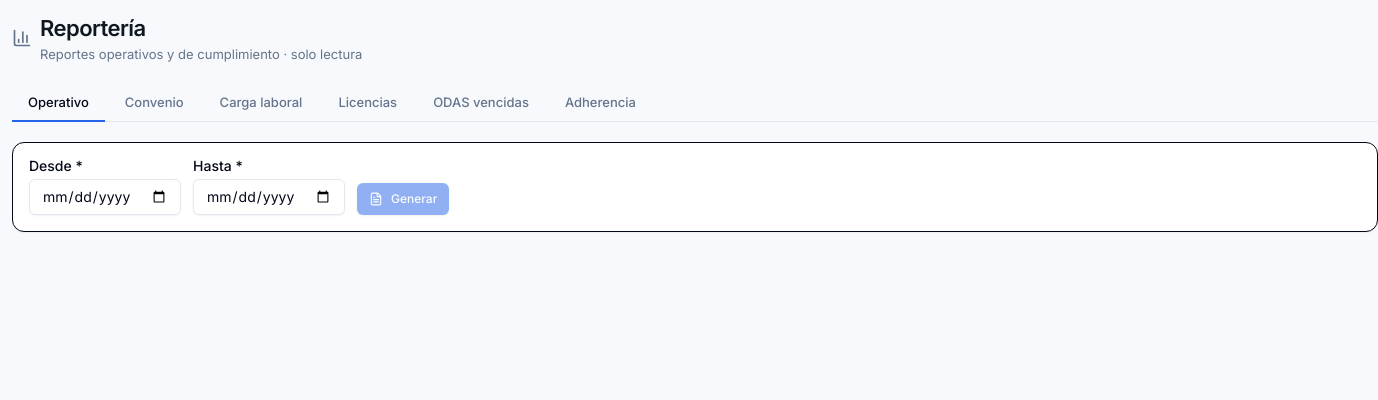
Test: ReportesPage — pestaña Adherencia › explica el criterio del denominador bajo el KPI
This screenshot has width=1378, height=400.
Click the button "Adherencia". click: click(600, 103)
box: [549, 84, 652, 122]
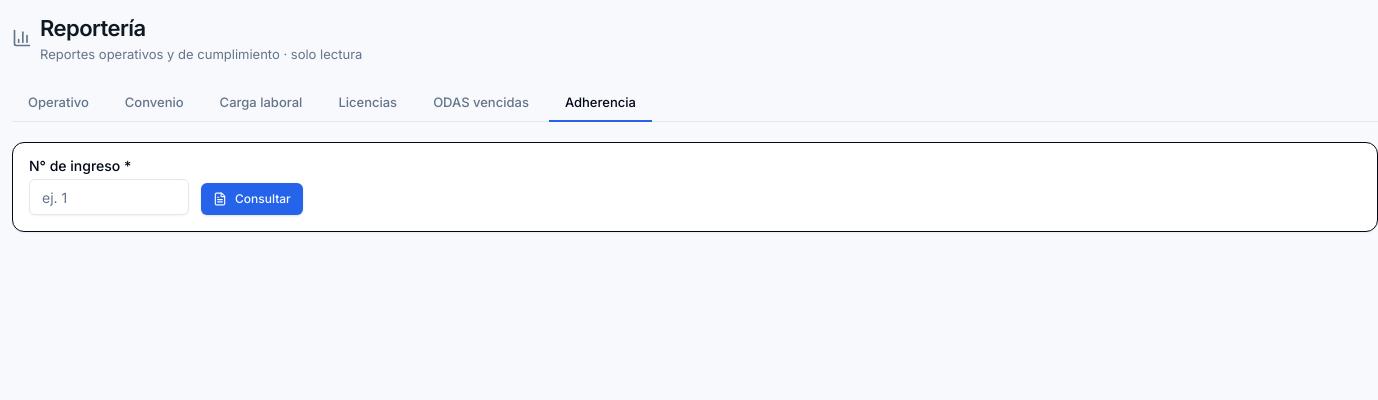
Type "1" into the number field with test id "input-folio-adherencia". click: (109, 197)
box: [29, 179, 189, 215]
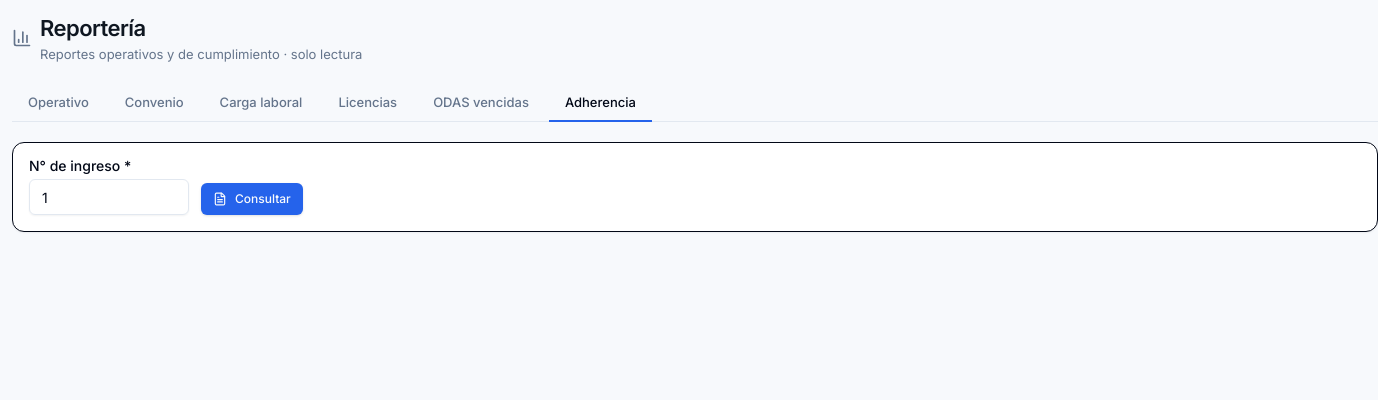
Click the button with test id "btn-generar-reporte". click: click(252, 199)
box: [201, 183, 303, 215]
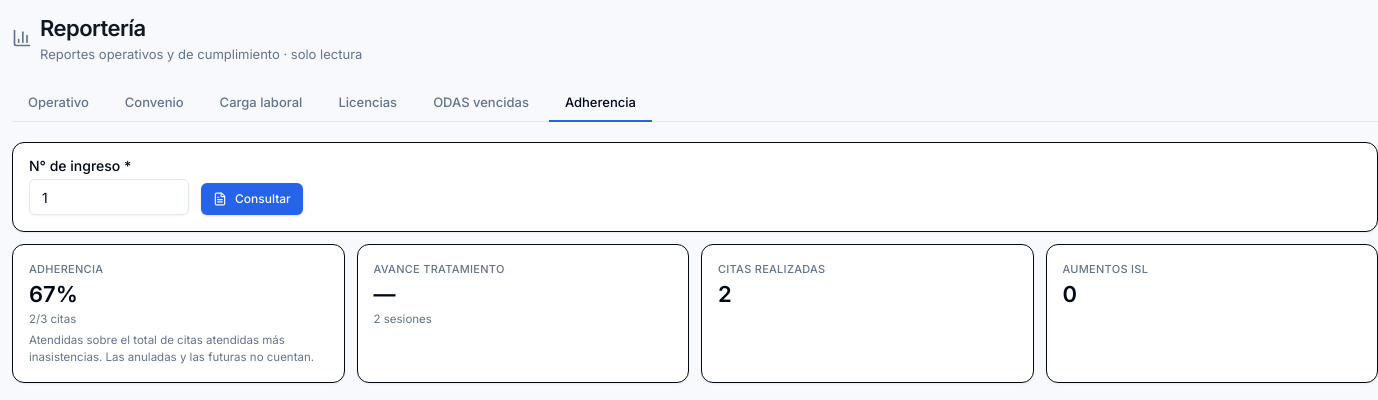
Now the text "67%" is shown, box [29, 280, 78, 306]
Now the text with test id "ayuda-adherencia" shows "Atendidas sobre el total de citas atendidas más inasistencias. Las anuladas y las futuras no cuentan.", box [29, 333, 314, 364]
